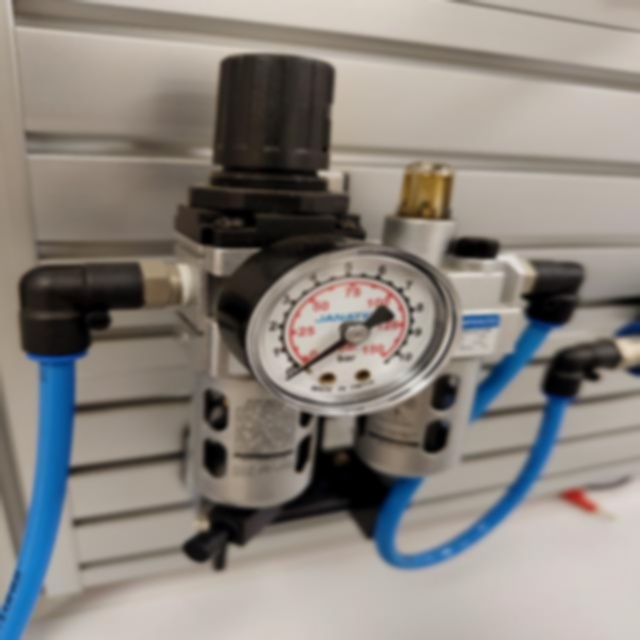FRL unit: (12, 47, 588, 579)
push button: (216, 233, 463, 417)
